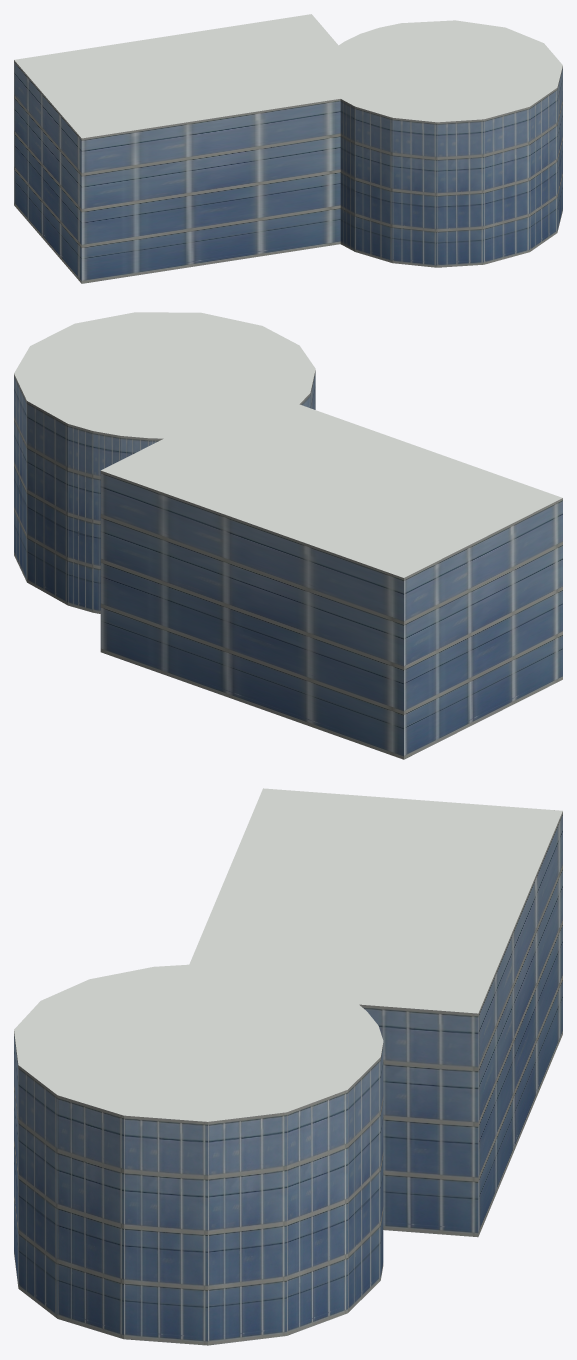
The model's file is tingtaoshitang.fbx.
The picture shows the model from 3 angles, top to bottom: view 1: azimuth 30°, elevation 25°; view 2: azimuth 150°, elevation 25°; view 3: azimuth 270°, elevation 25°; orthographic projection. The views are drawn at different scales.
Parts seen in each view (by area): view 1: CityEngineMaterial_1_m, CityEngineMaterial_m; view 2: CityEngineMaterial_1_m, CityEngineMaterial_m; view 3: CityEngineMaterial_1_m, CityEngineMaterial_m.
Boxes of the visible parts, x1,y1,x2,y2 form: CityEngineMaterial_1_m: (14, 60, 562, 283); CityEngineMaterial_m: (14, 14, 562, 138); CityEngineMaterial_1_m: (14, 370, 562, 759); CityEngineMaterial_m: (14, 312, 562, 577); CityEngineMaterial_1_m: (14, 811, 562, 1345); CityEngineMaterial_m: (14, 788, 562, 1121).
Bounding box in the file's own units: 51.16 × 16 × 35.6.
